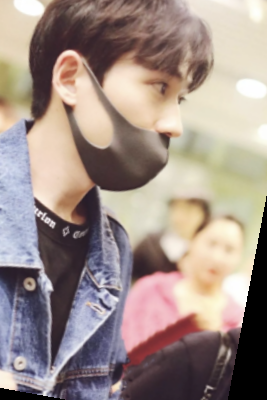mask_weared_incorrect: (16, 4, 241, 222)
